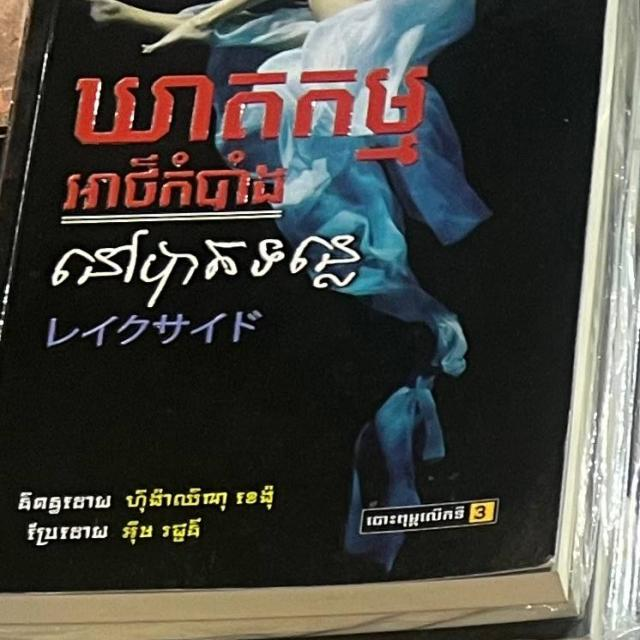2: (15, 474, 280, 516), (25, 510, 220, 545)
60: (364, 491, 493, 537)
Yolov11kh: (66, 52, 432, 160), (51, 220, 376, 300), (53, 144, 293, 218)
